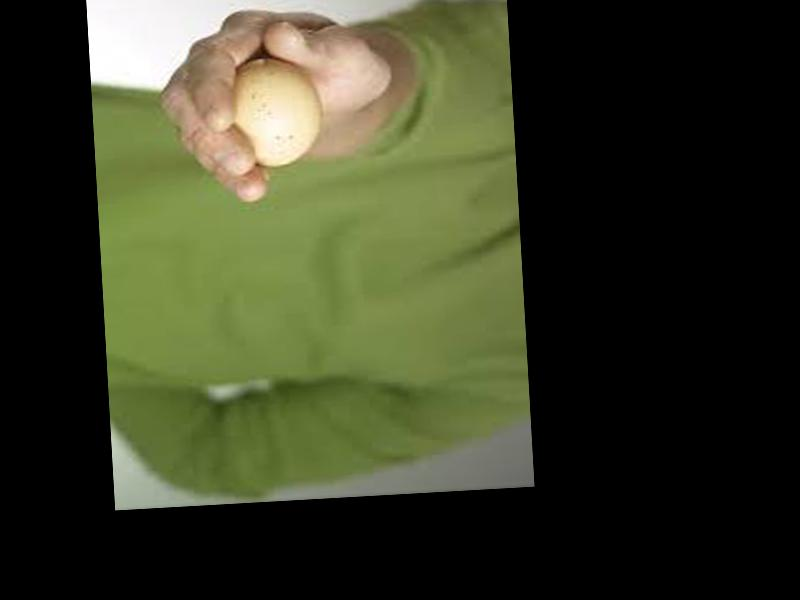Eggs: (229, 56, 323, 169)
